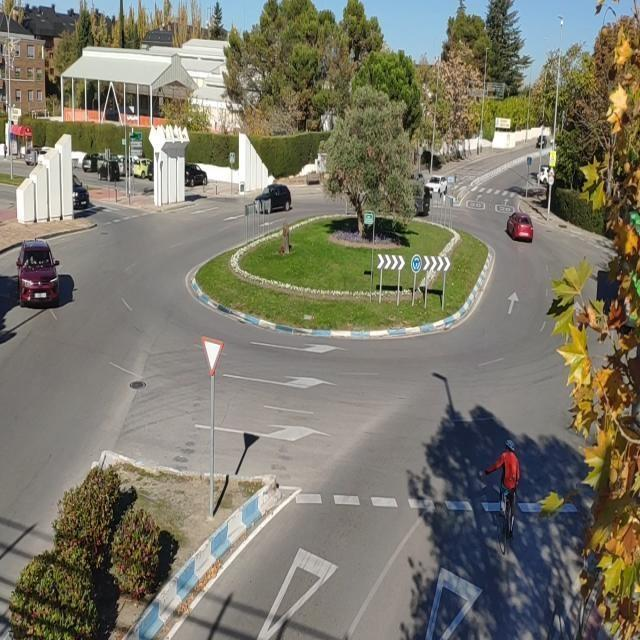Car: (15, 240, 60, 308), (254, 183, 292, 214), (506, 212, 534, 242), (72, 175, 90, 209), (184, 163, 208, 187), (424, 175, 448, 198), (97, 158, 122, 180), (114, 154, 136, 176), (132, 159, 152, 179), (97, 153, 117, 173), (537, 165, 554, 185), (37, 146, 54, 166), (82, 153, 99, 172), (25, 148, 41, 166), (536, 135, 548, 149), (147, 160, 154, 181)
Cycle: (498, 482, 516, 536)
